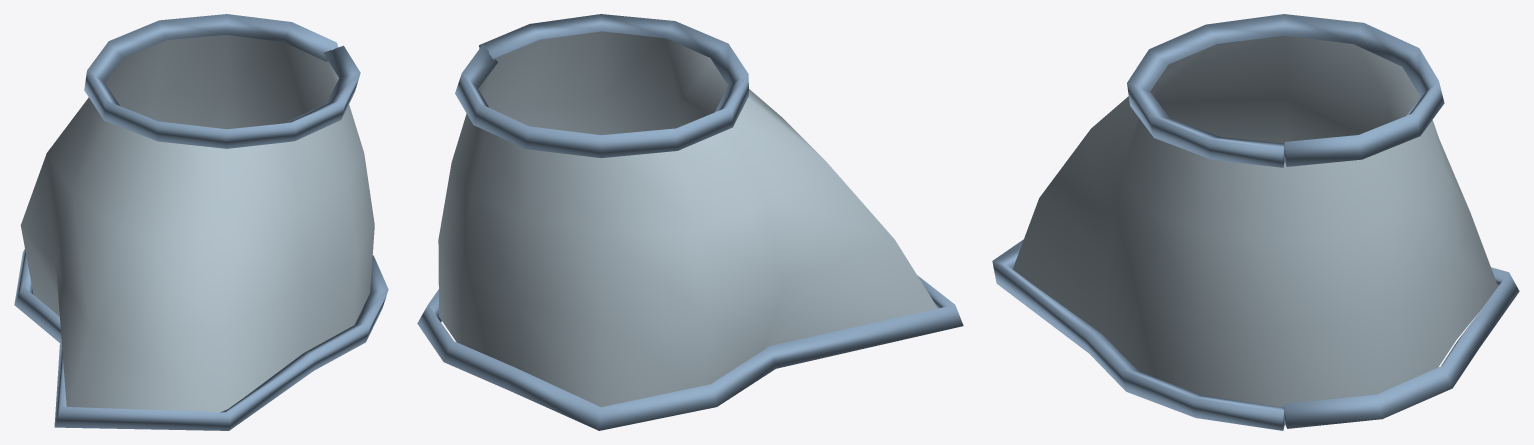
File: platinum_armor_pauldron.R.glb
The picture shows the model from 3 angles, left to right: view 1: azimuth 30°, elevation 25°; view 2: azimuth 150°, elevation 25°; view 3: azimuth 270°, elevation 25°; orthographic projection. The views are drawn at different scales.
Visible parts, largest first — view 1: platinum_armor_pauldron.R; view 2: platinum_armor_pauldron.R; view 3: platinum_armor_pauldron.R.
Part boxes in pixels (bbox=[...]): platinum_armor_pauldron.R: bbox=[14, 14, 388, 430]; platinum_armor_pauldron.R: bbox=[417, 14, 963, 430]; platinum_armor_pauldron.R: bbox=[992, 14, 1519, 430].
Size of the model in its own units: 0.2897 by 0.1646 by 0.2886.
